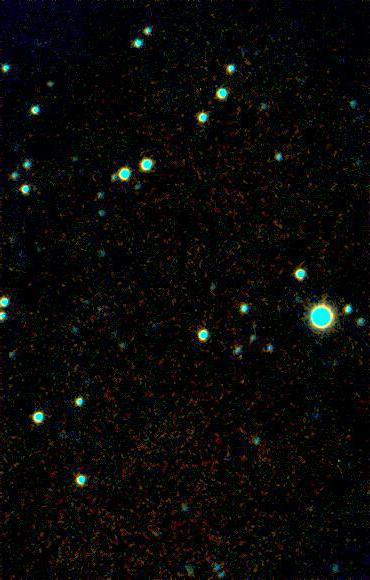star: (234, 43, 264, 73)
